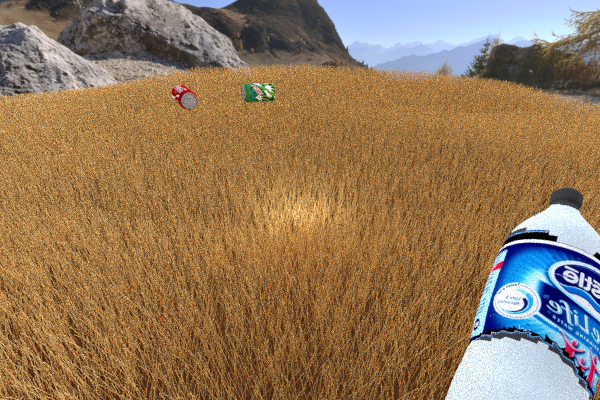bottle: (436, 187, 600, 400)
can: (0, 174, 1, 243)
